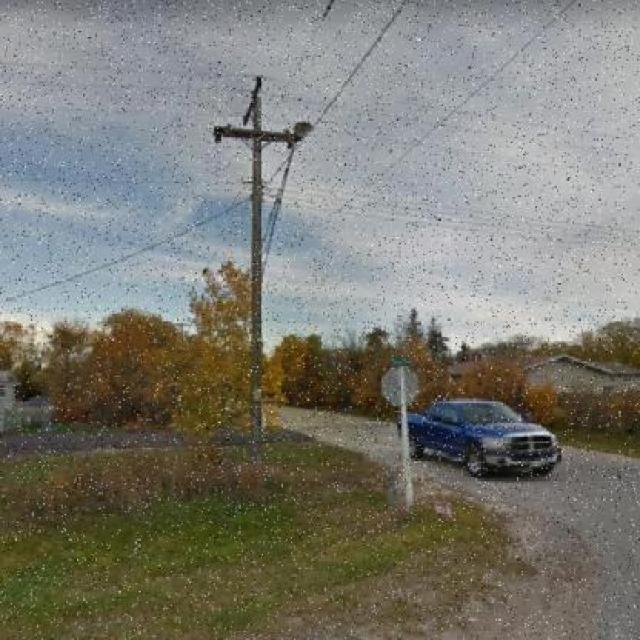pole: (198, 39, 328, 498)
